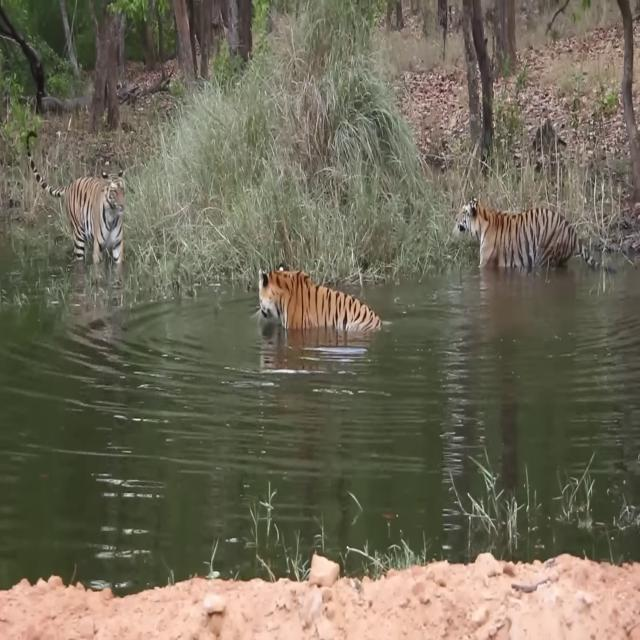tiger: (25, 129, 126, 264), (455, 193, 617, 274), (249, 260, 384, 330)
